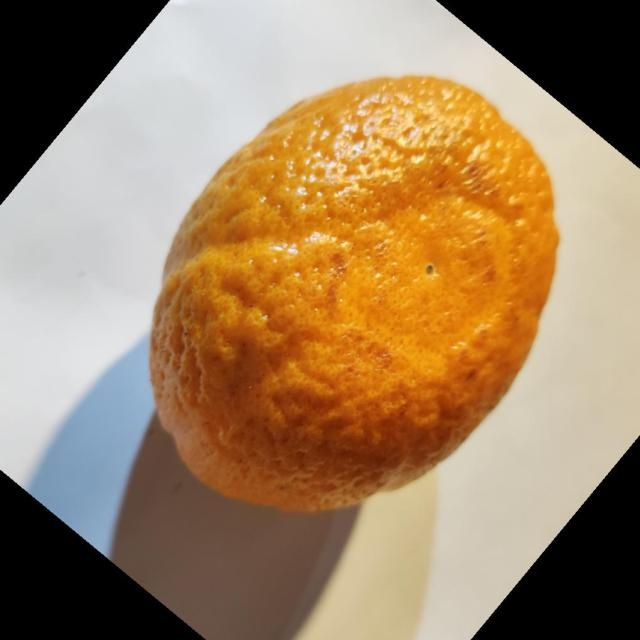agrume: (148, 72, 560, 512)
